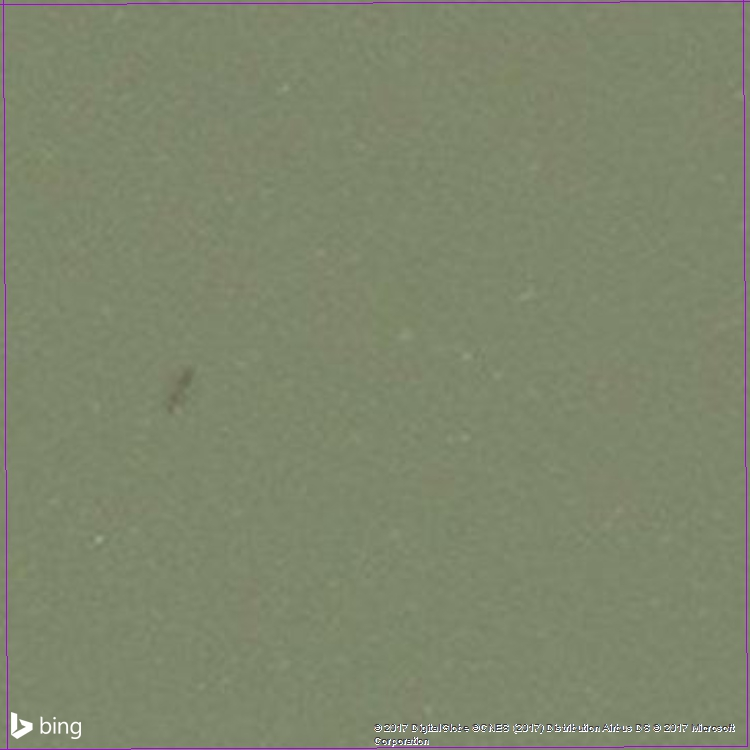boat: (164, 355, 200, 432)
